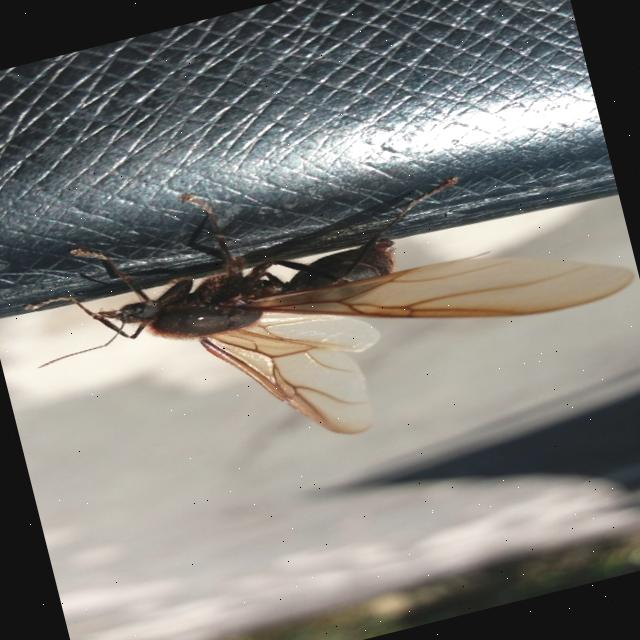Alive-Male-Alate: (4, 91, 640, 504)
